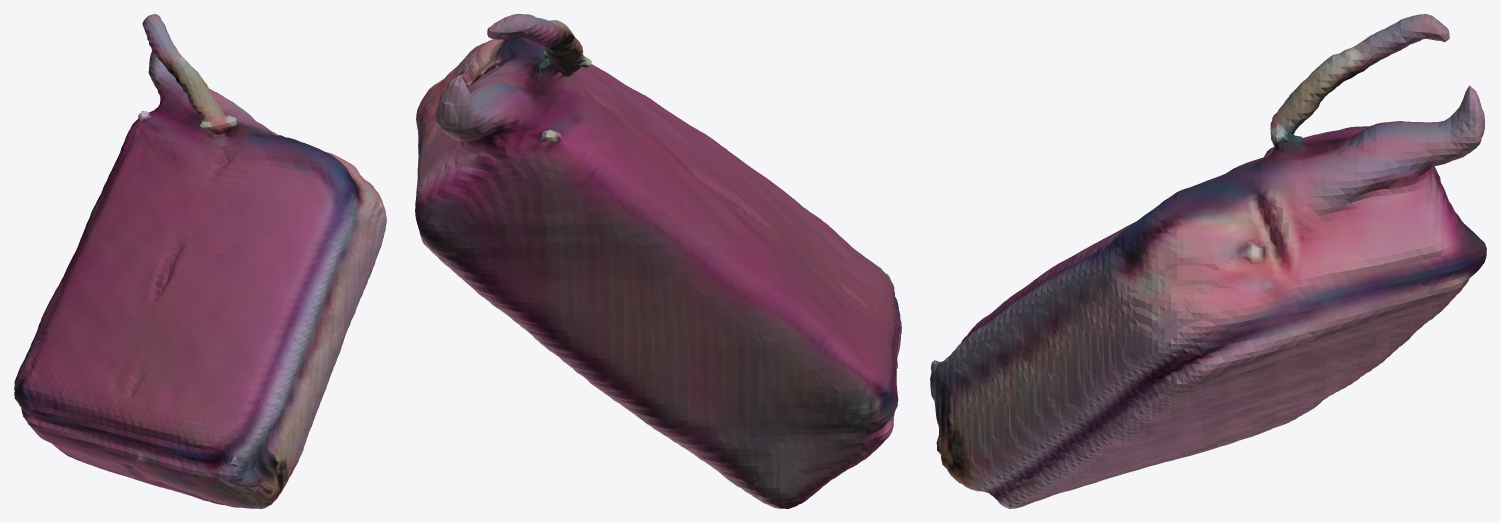
3 views of the same model, side by side, from view 1: azimuth 30°, elevation 25°; view 2: azimuth 150°, elevation 25°; view 3: azimuth 270°, elevation 25° (orthographic). The views are drawn at different scales.
Bounding box in the file's own units: 0.6123 × 0.6311 × 0.6106.
